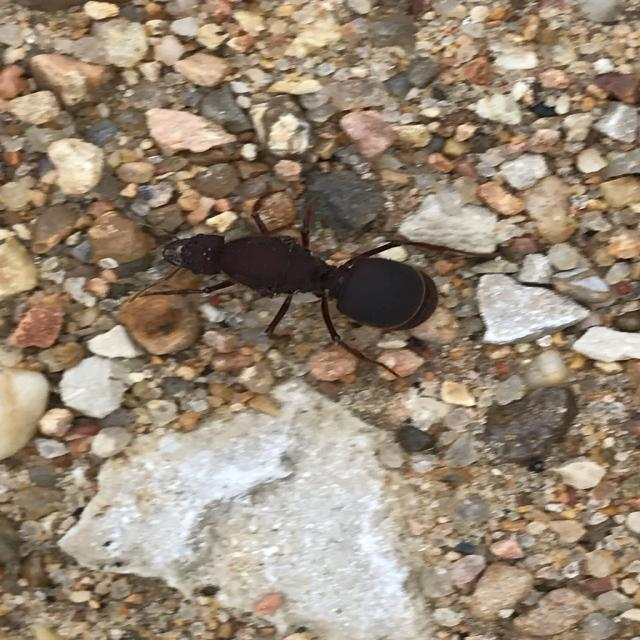Alive-Female-Dealate: (128, 188, 502, 384)
